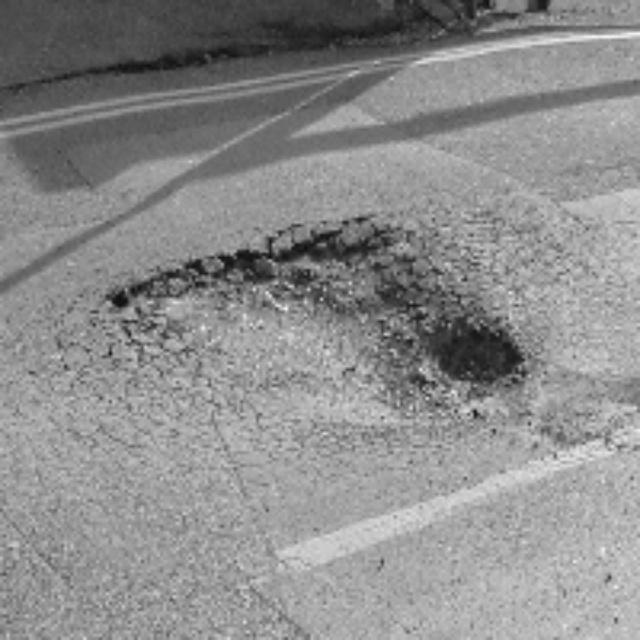Pothole: (160, 230, 505, 449)
